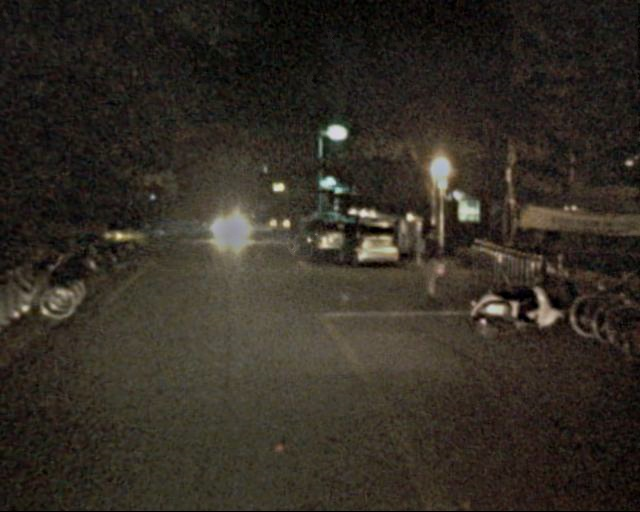person: (415, 226, 447, 303)
